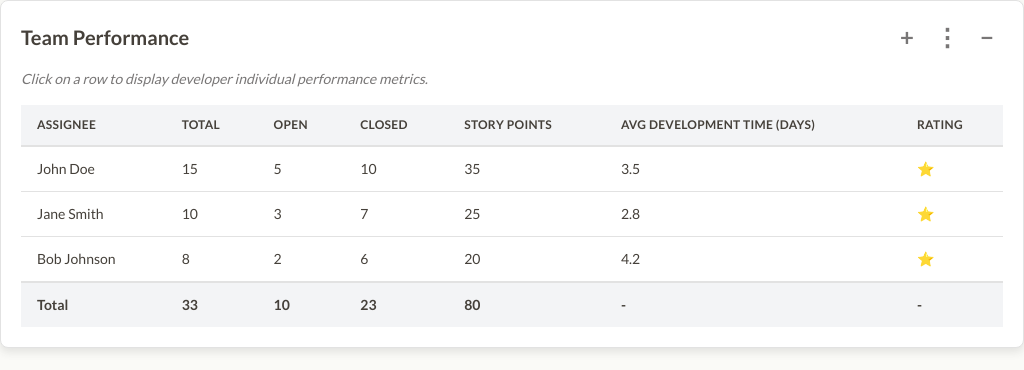
TeamPerformanceTable › Collapse/Expand Functionality › should collapse table when button is clicked
The width and height of the screenshot is (1024, 370).
Click the button titled "Collapse/Expand" at (987, 37), box [971,21,1003,53]
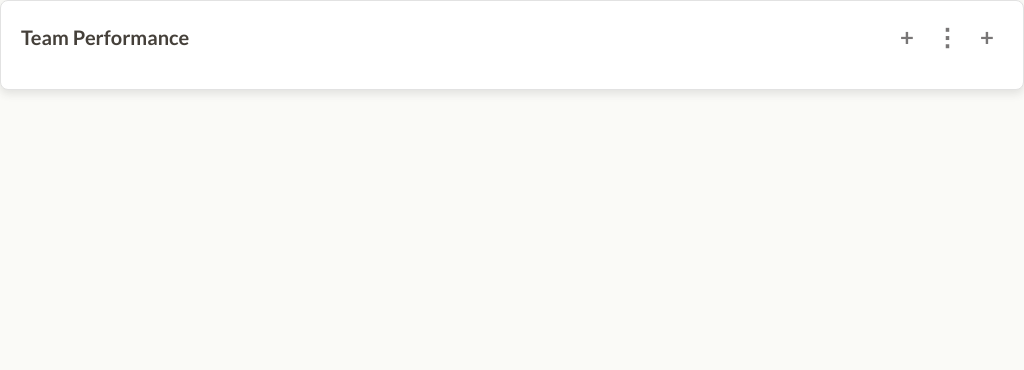
Expected: the text "John Doe" is gone
